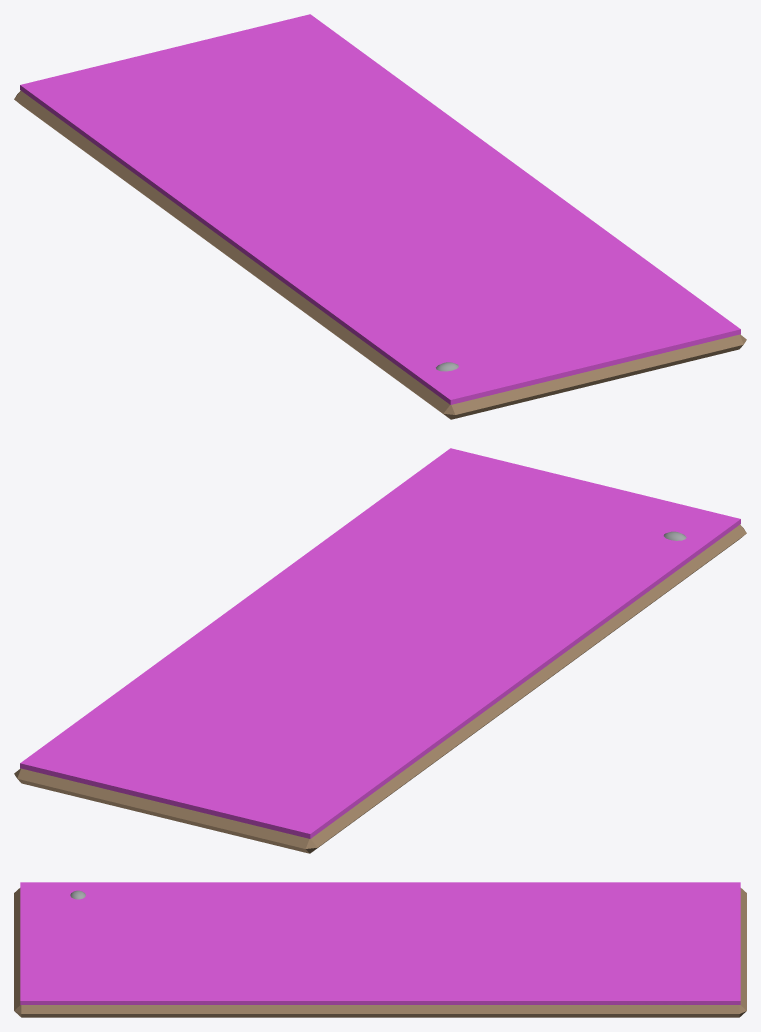
3 views of the same model, one above another, from view 1: azimuth 30°, elevation 25°; view 2: azimuth 150°, elevation 25°; view 3: azimuth 270°, elevation 25° (orthographic). The views are drawn at different scales.
Parts seen in each view (by area): view 1: NAV_MASK_FOREST_PATH_DIRT_STRAIGHT_MAIN, LOD2_FOREST_PATH_DIRT_STRAIGHT_Surface; view 2: NAV_MASK_FOREST_PATH_DIRT_STRAIGHT_MAIN, LOD2_FOREST_PATH_DIRT_STRAIGHT_Surface; view 3: NAV_MASK_FOREST_PATH_DIRT_STRAIGHT_MAIN, LOD2_FOREST_PATH_DIRT_STRAIGHT_Surface.
Part boxes in pixels (box(x1,y1,x2,y2)): NAV_MASK_FOREST_PATH_DIRT_STRAIGHT_MAIN: box(20, 14, 740, 404); LOD2_FOREST_PATH_DIRT_STRAIGHT_Surface: box(14, 90, 746, 419); NAV_MASK_FOREST_PATH_DIRT_STRAIGHT_MAIN: box(20, 448, 740, 838); LOD2_FOREST_PATH_DIRT_STRAIGHT_Surface: box(14, 524, 746, 853); NAV_MASK_FOREST_PATH_DIRT_STRAIGHT_MAIN: box(20, 882, 740, 1004); LOD2_FOREST_PATH_DIRT_STRAIGHT_Surface: box(14, 888, 746, 1017).
Size of what is drawn, in the model's own units: 3.2 by 0.24 by 8.
